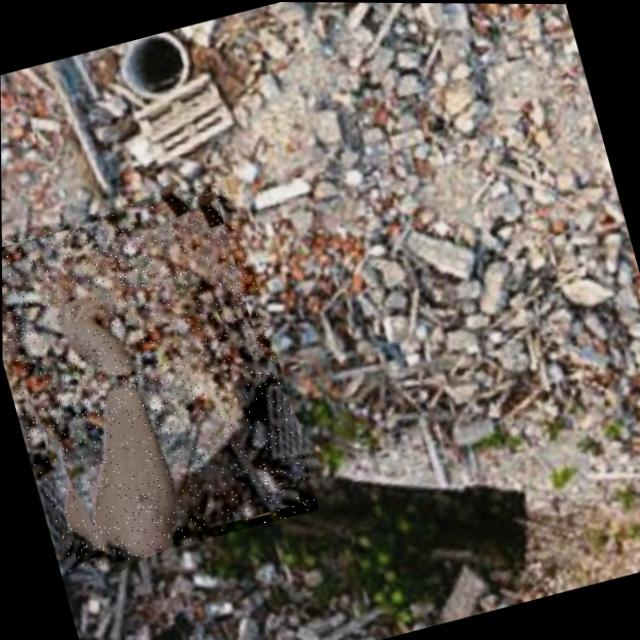Person in Rubble: (1, 175, 318, 577)
